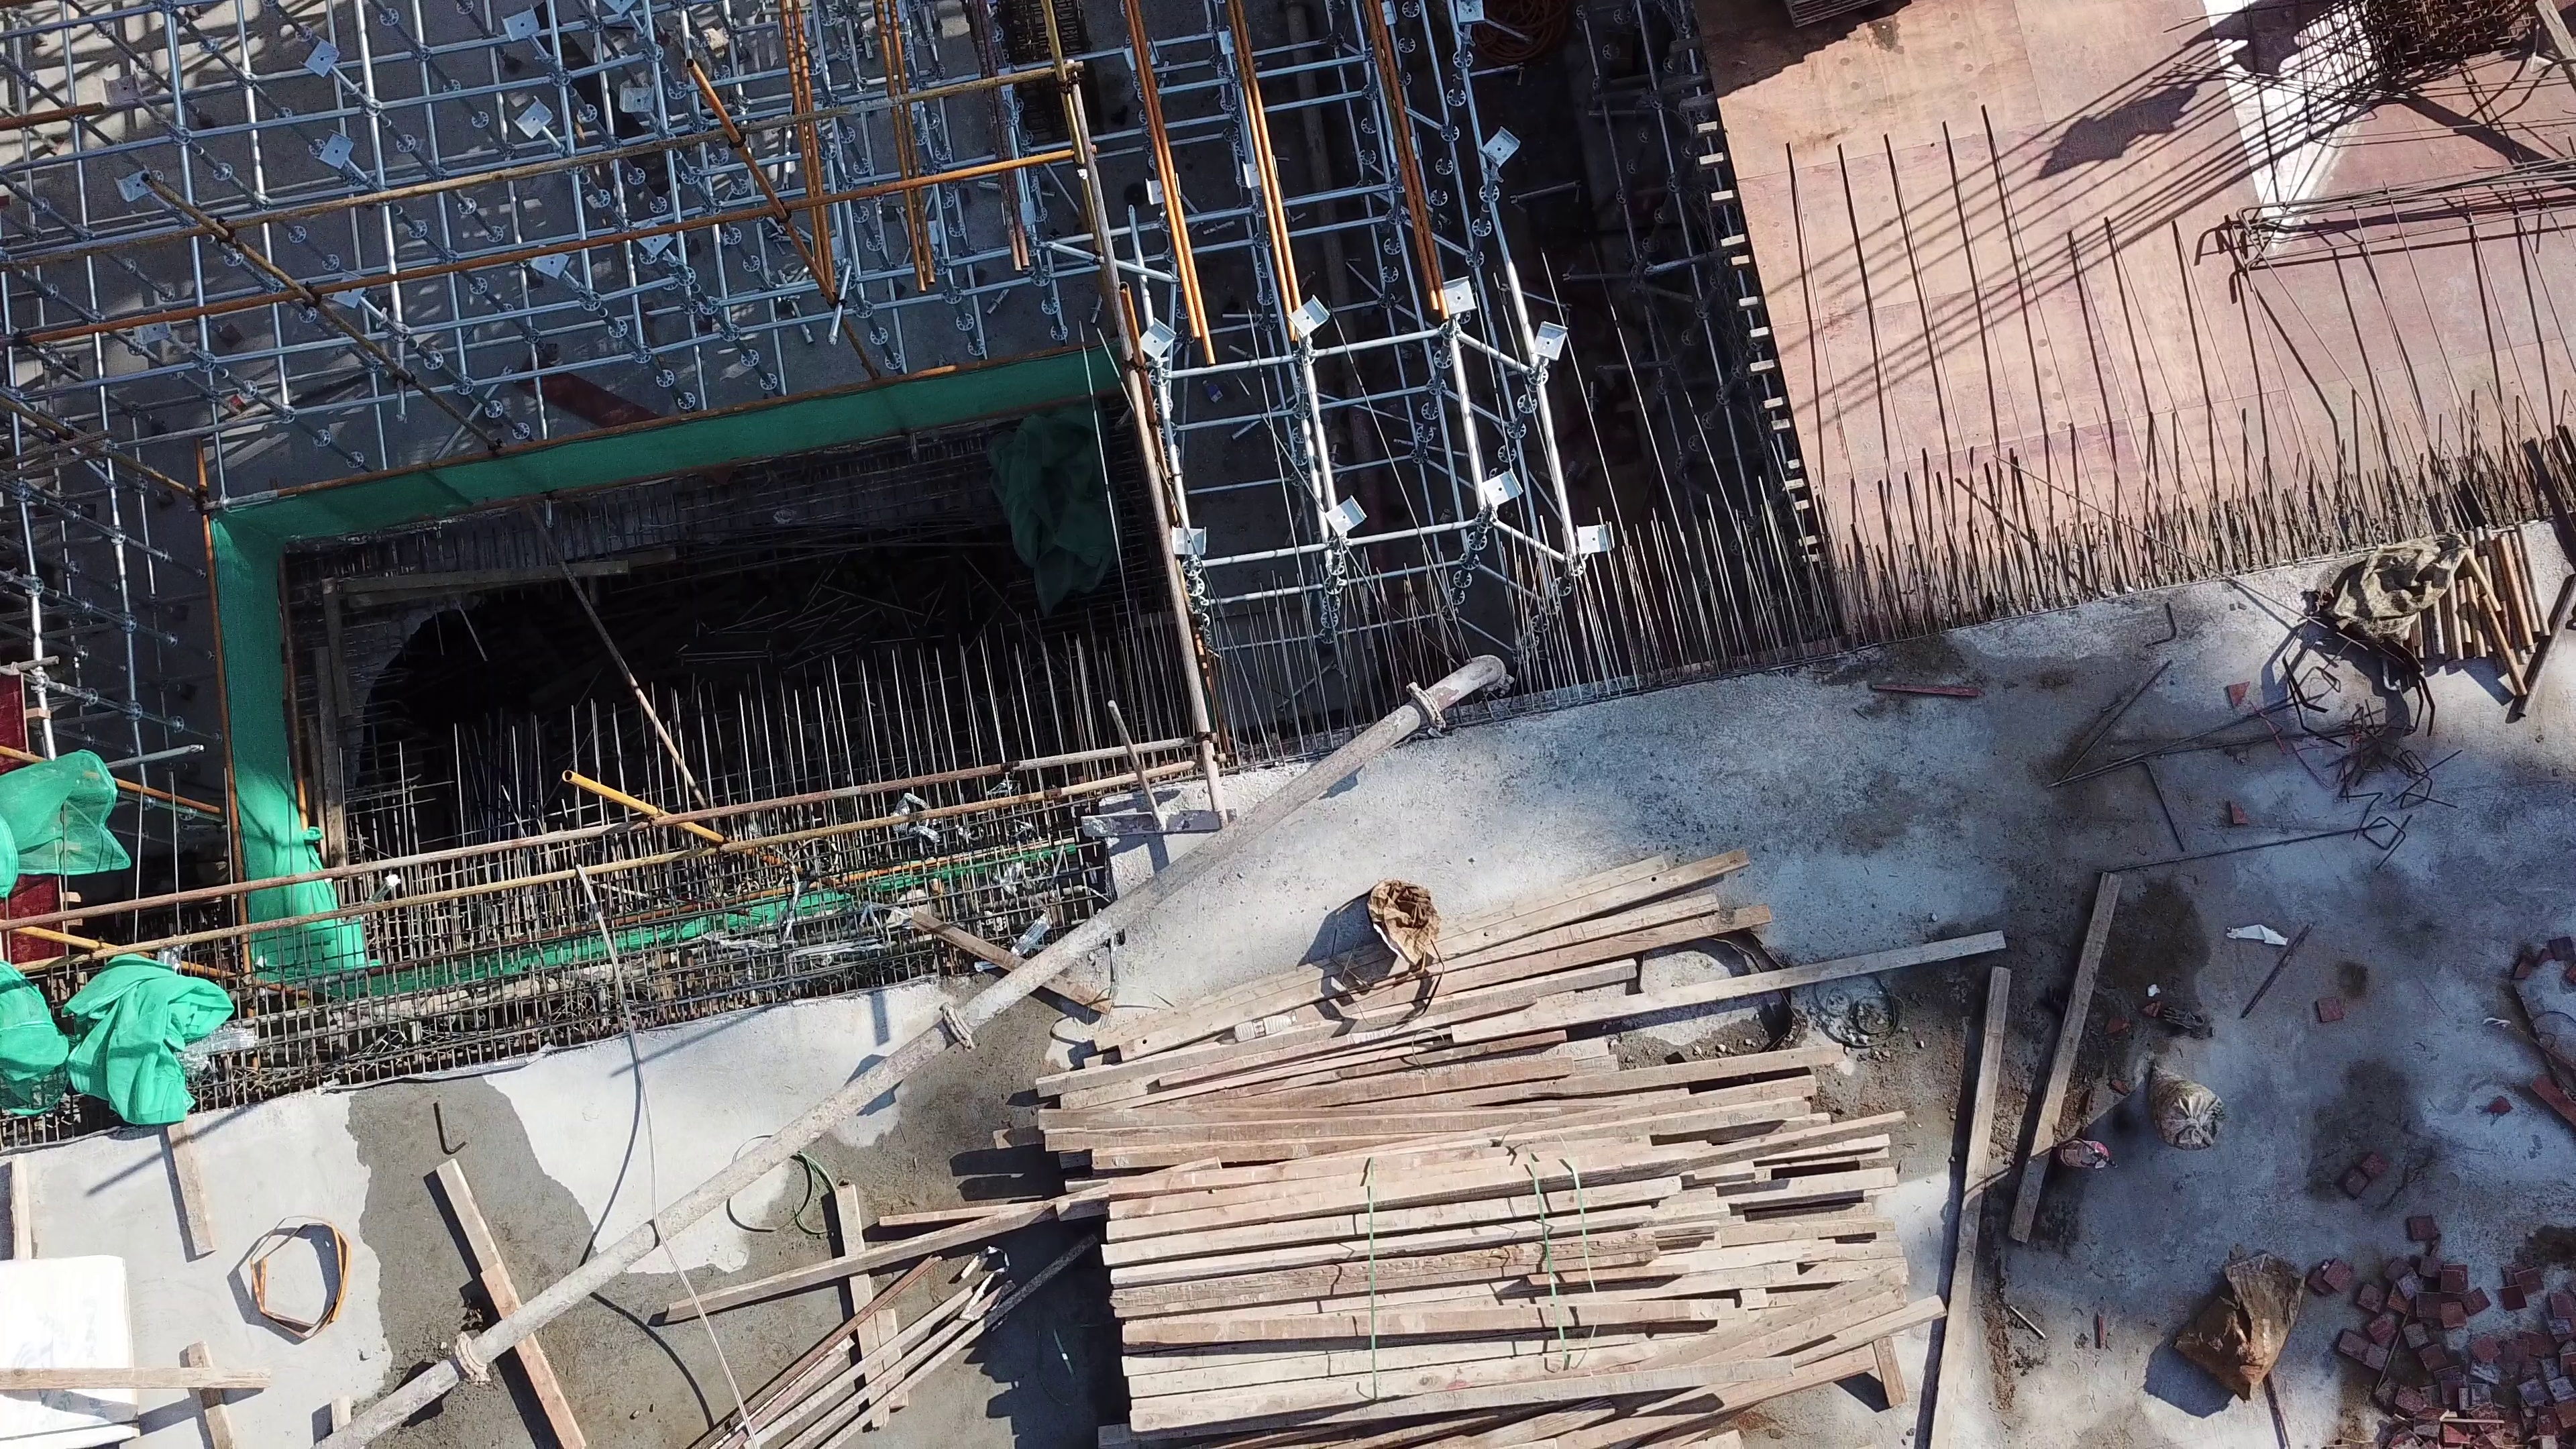wood: (1037, 844, 1946, 1449)
